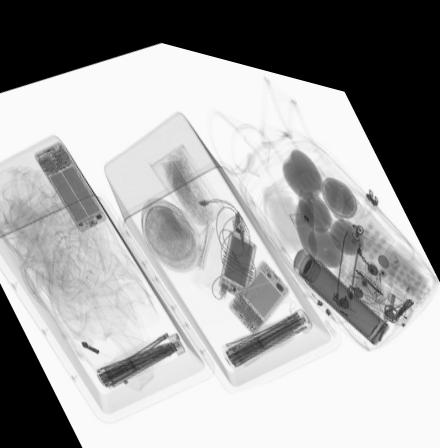Powerbank: (220, 217, 256, 286)
